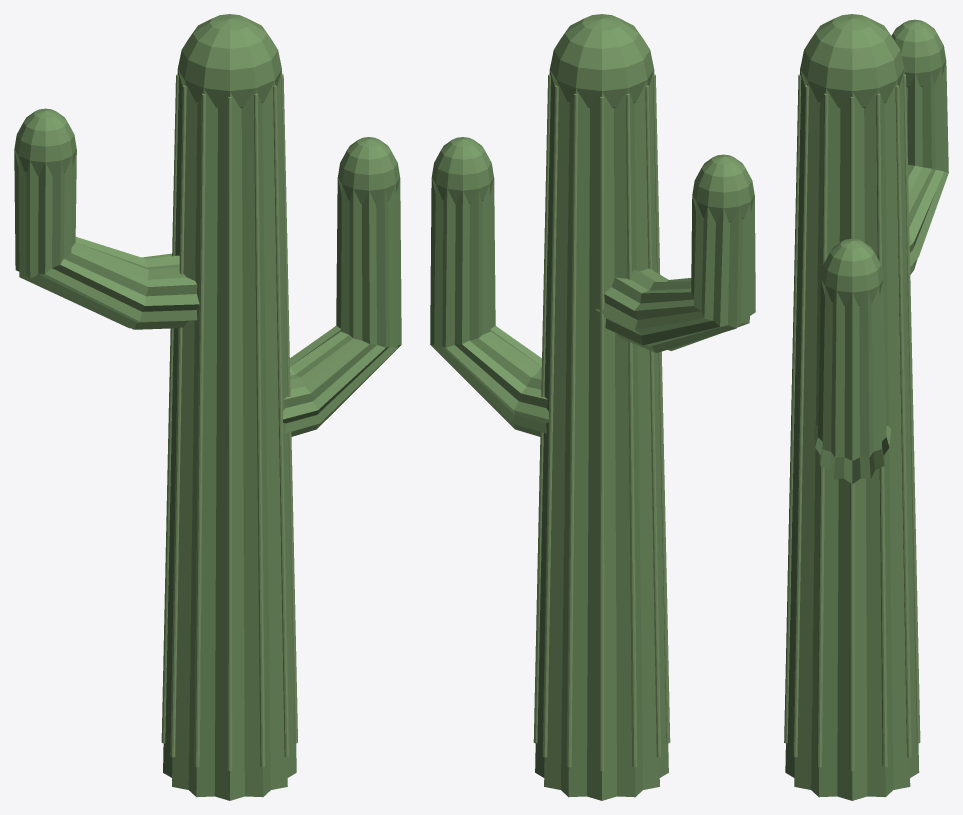
File: cactus-1.glb
The picture shows the model from 3 angles, left to right: view 1: azimuth 30°, elevation 25°; view 2: azimuth 150°, elevation 25°; view 3: azimuth 270°, elevation 25°; orthographic projection.
Parts seen in each view (by area): view 1: cactus-1; view 2: cactus-1; view 3: cactus-1.
Boxes of the visible parts, box(x1,y1,x2,y2) form: cactus-1: box(14, 14, 401, 800); cactus-1: box(430, 14, 755, 800); cactus-1: box(784, 14, 948, 800).
Size of the model in its own units: 1.8 by 3.73 by 0.7383.
